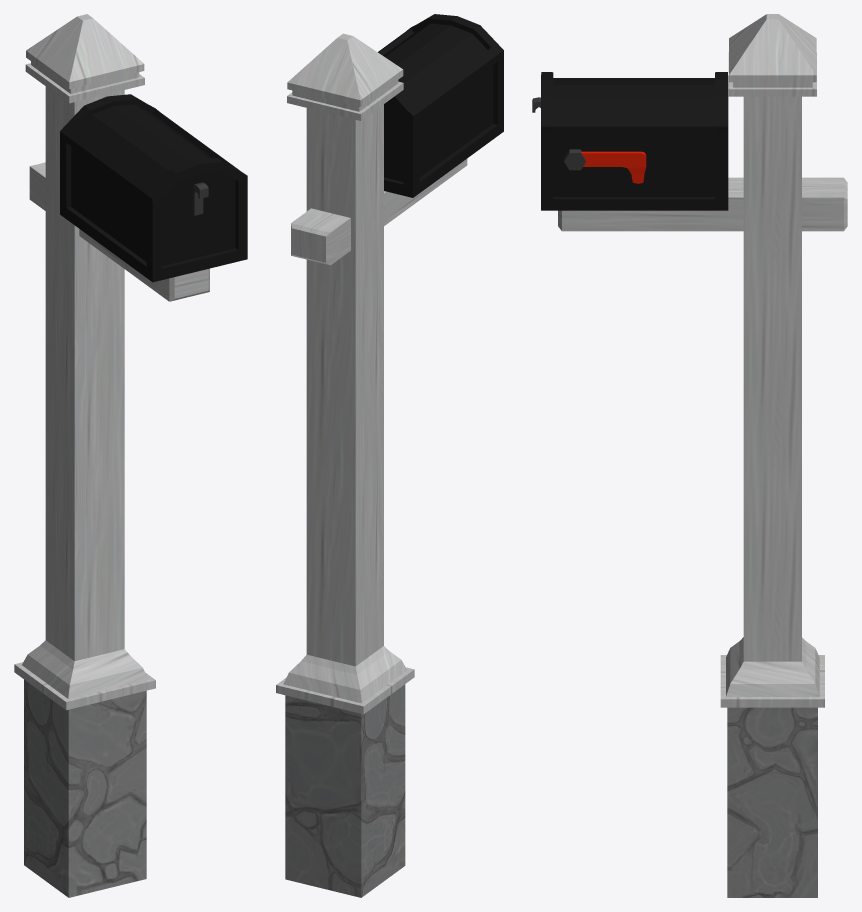
File: mailbox.glb
The picture shows the model from 3 angles, left to right: view 1: azimuth 30°, elevation 25°; view 2: azimuth 150°, elevation 25°; view 3: azimuth 270°, elevation 25°; orthographic projection. The views are drawn at different scales.
Parts seen in each view (by area): view 1: Mailbox; view 2: Mailbox; view 3: Mailbox.
Boxes of the visible parts, x1,y1,x2,y2 form: Mailbox: [14, 14, 247, 897]; Mailbox: [276, 14, 503, 897]; Mailbox: [532, 14, 847, 897].
Bounding box in the file's own units: 0.1784 × 1.49 × 0.4945.
1 material, 1 textured.
